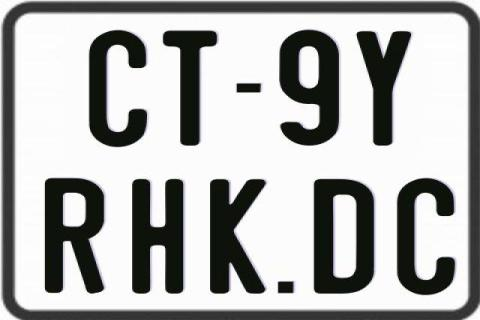0: (279, 28, 341, 148)
C: (86, 29, 150, 151), (395, 178, 456, 296)
D: (314, 177, 376, 293)
H: (129, 178, 182, 298)
K: (209, 180, 269, 296)
R: (44, 179, 103, 295)
T: (162, 29, 217, 145)
Y: (356, 31, 415, 146)
